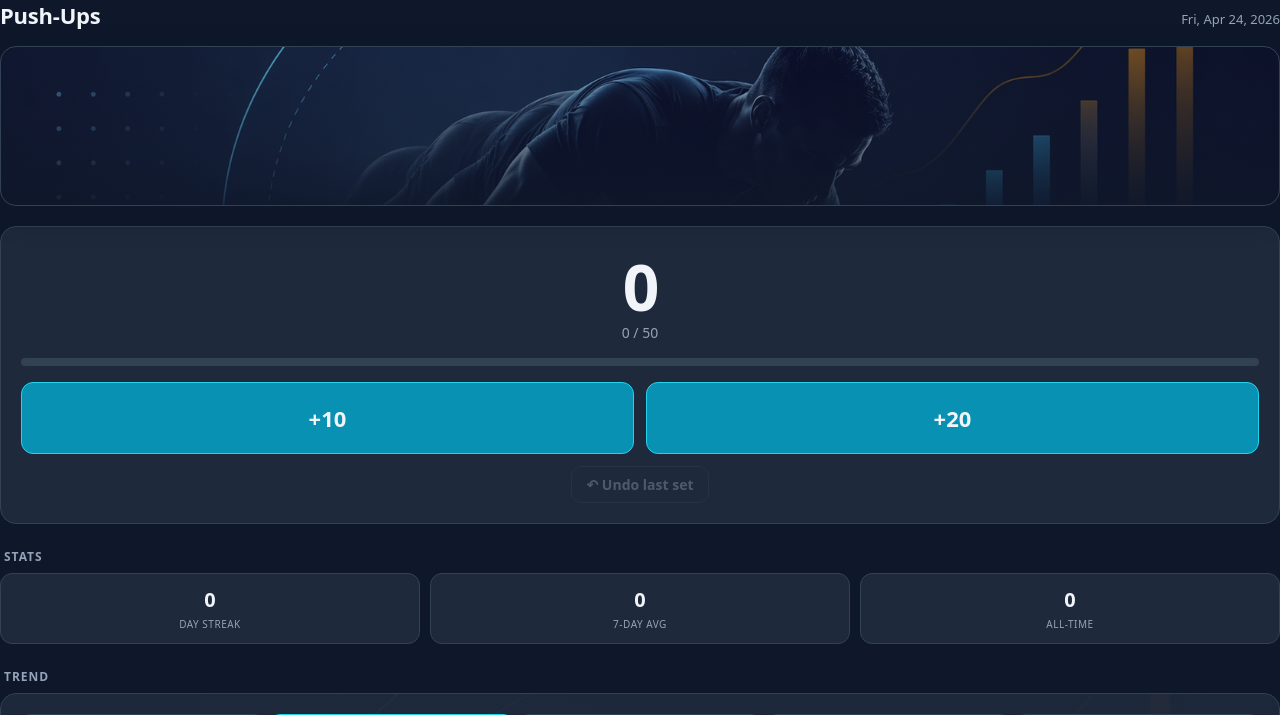
Scenario: PushUps screen › clicking +10 twice increases today total to 20
This screenshot has width=1280, height=715.
Click the button "+10" at (328, 418), box [21,382,634,454]
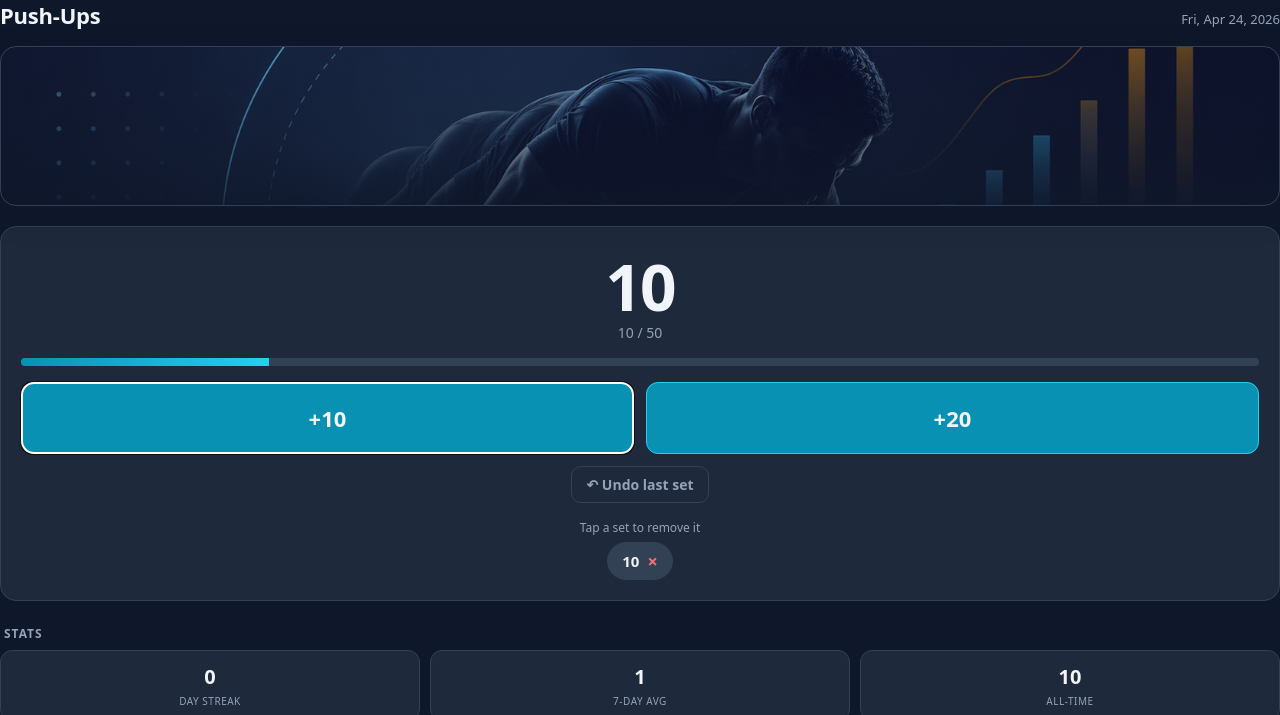
Click the button "+10" at (328, 418), box [21,382,634,454]
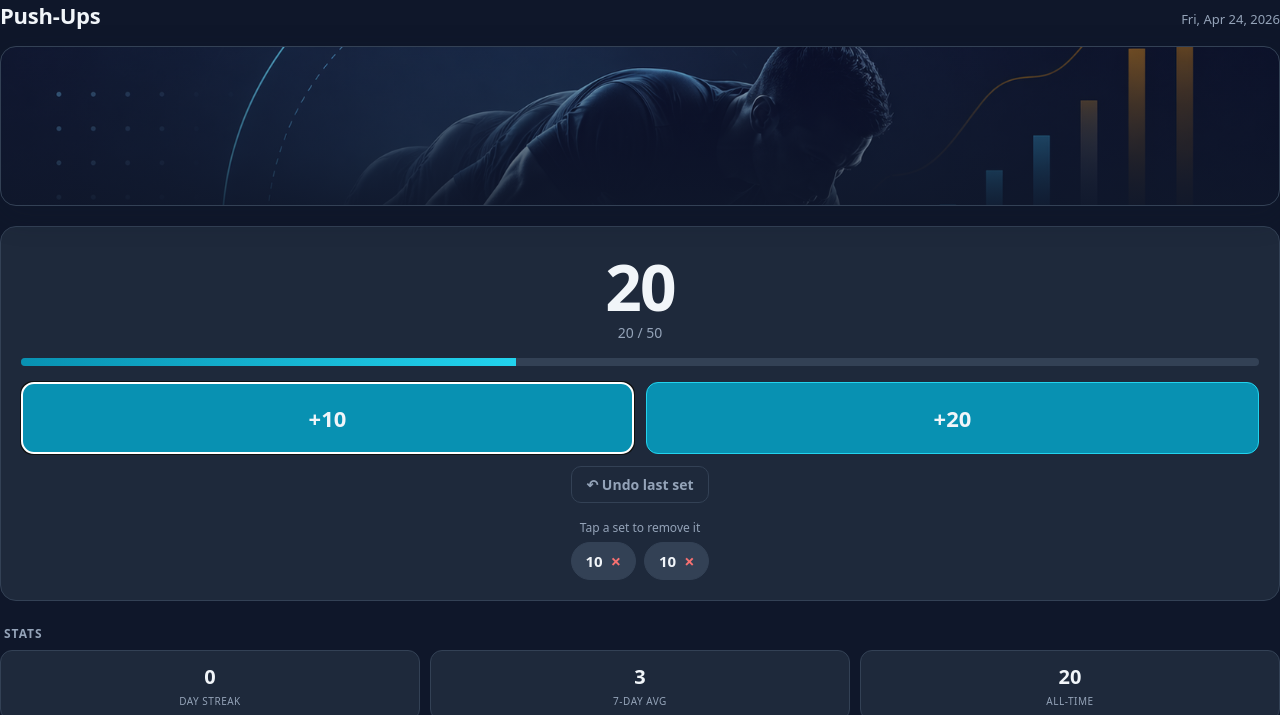
Expected: the text "20 / 50" is shown, [618,323,662,342]
